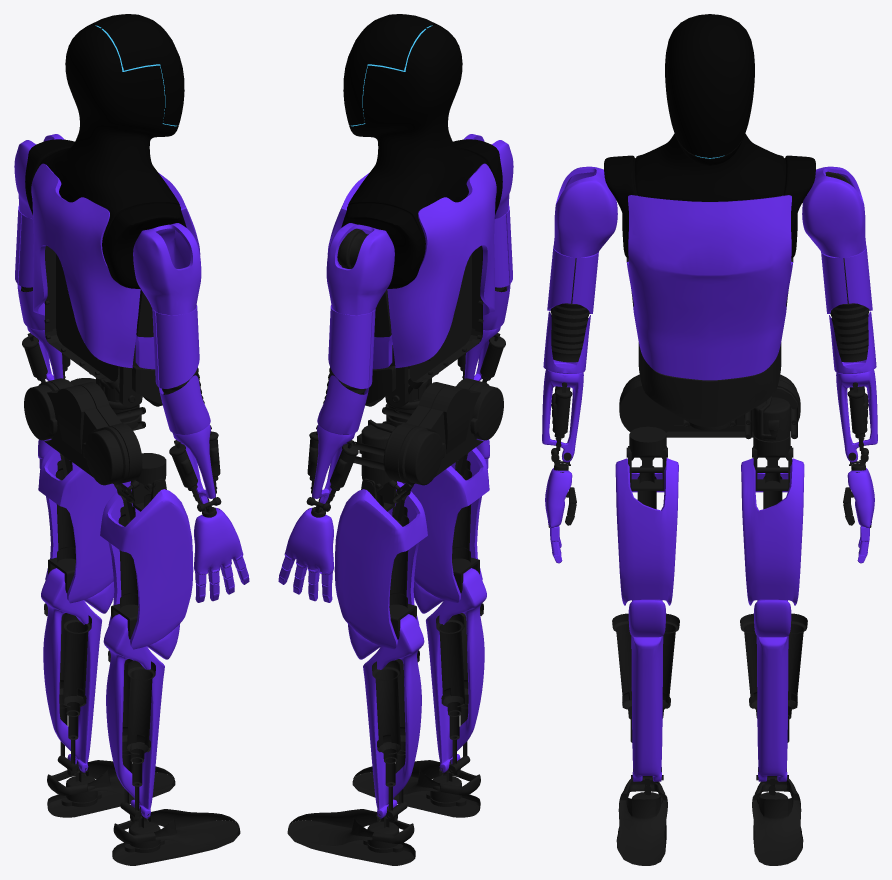
File: video-editor.glb
The picture shows the model from 3 angles, left to right: view 1: azimuth 30°, elevation 25°; view 2: azimuth 150°, elevation 25°; view 3: azimuth 270°, elevation 25°; orthographic projection.
Visible parts, largest first — view 1: Cube.001; view 2: Cube.001; view 3: Cube.001.
Part boxes in pixels (x1,y1,x2,y2): Cube.001: (14,14,249,865); Cube.001: (278,14,513,865); Cube.001: (542,14,877,865).
Bounding box in the file's own units: 0.3406 × 1.7 × 0.6396.
